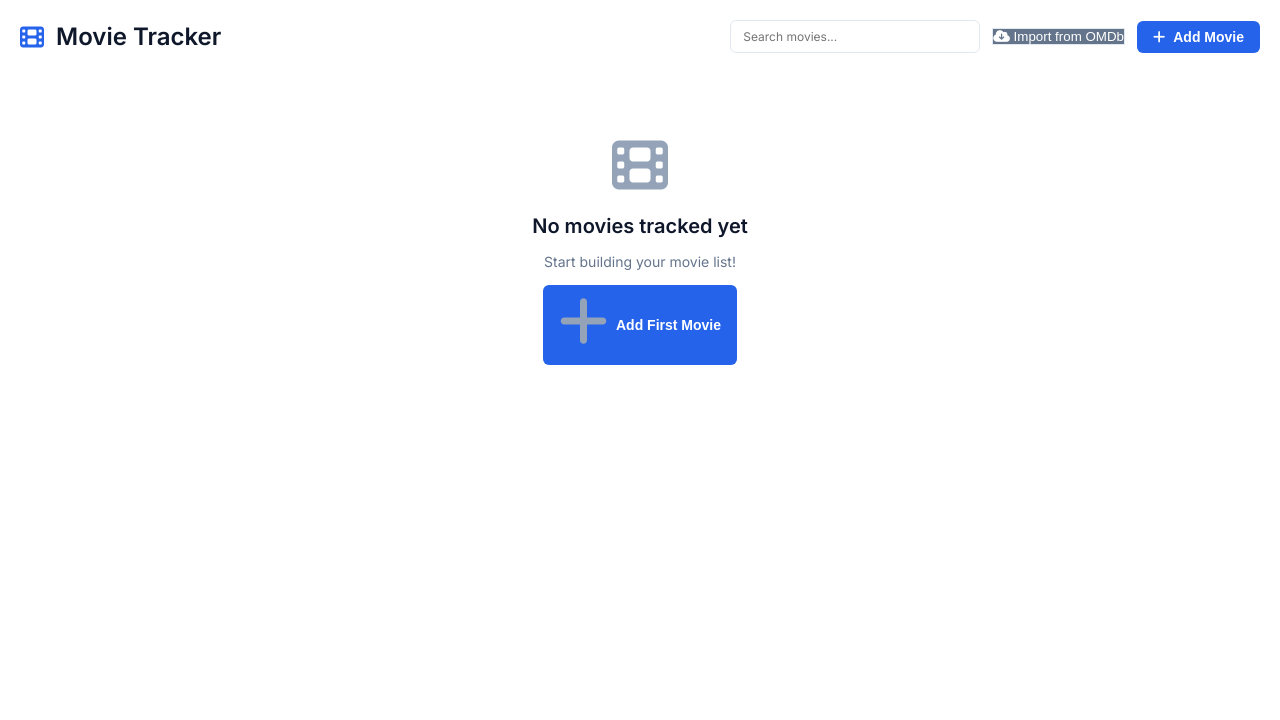
MoviesSection Component › Add Movie › opens add movie form when clicking Add Movie button
What coordinates should you click on to do the following:
click the button "Add Movie"
I would click on:
 (1198, 36)
Its box is 1137,20 -> 1260,52.
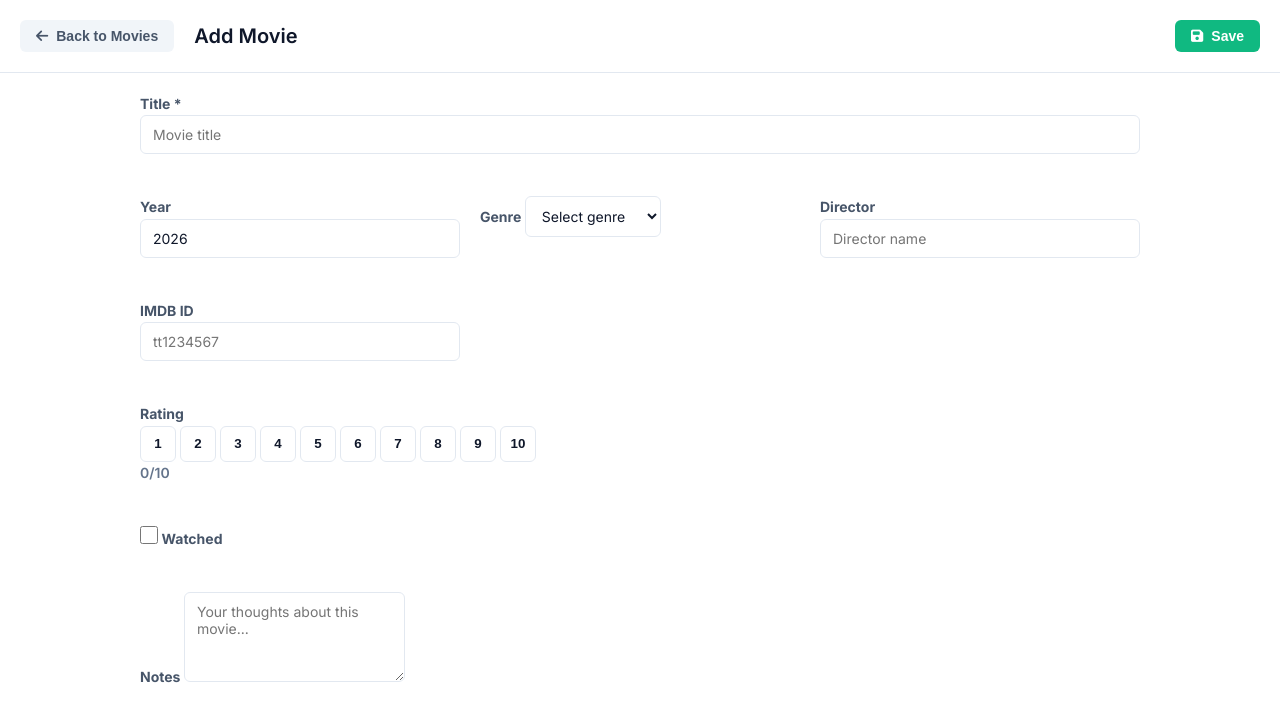
expect the element with class "editor-fullscreen" is shown: met
